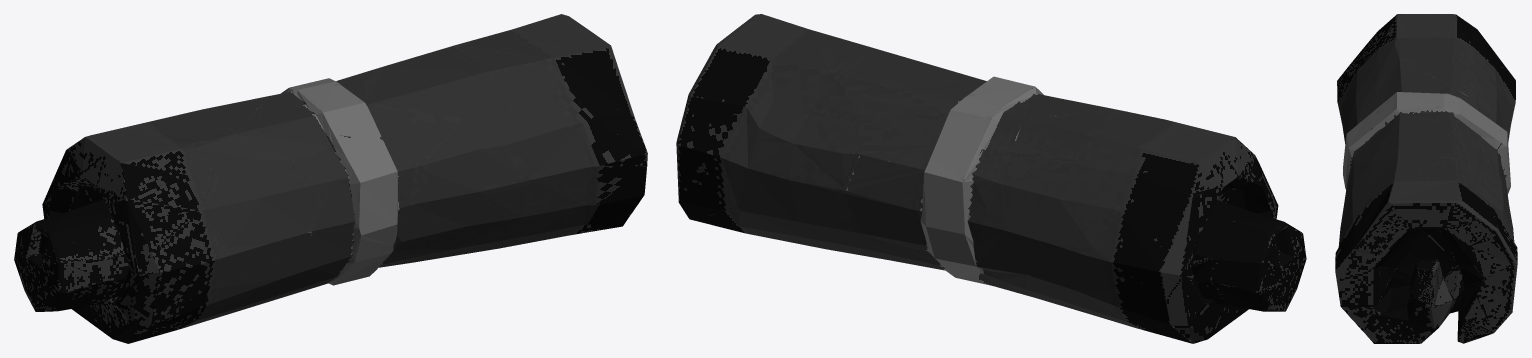
3 views of the same model, side by side, from view 1: azimuth 30°, elevation 25°; view 2: azimuth 150°, elevation 25°; view 3: azimuth 270°, elevation 25° (orthographic). The views are drawn at different scales.
Visible parts, largest first — view 1: OBJ139; view 2: OBJ139; view 3: OBJ139.
Boxes of the visible parts, <box> form: OBJ139: <box>14,14,647,343</box>; OBJ139: <box>676,14,1306,343</box>; OBJ139: <box>1335,14,1517,343</box>.
Bounding box in the file's own units: 0.3363 × 0.1001 × 0.1158.
Materials: 1 (1 with a texture image).
